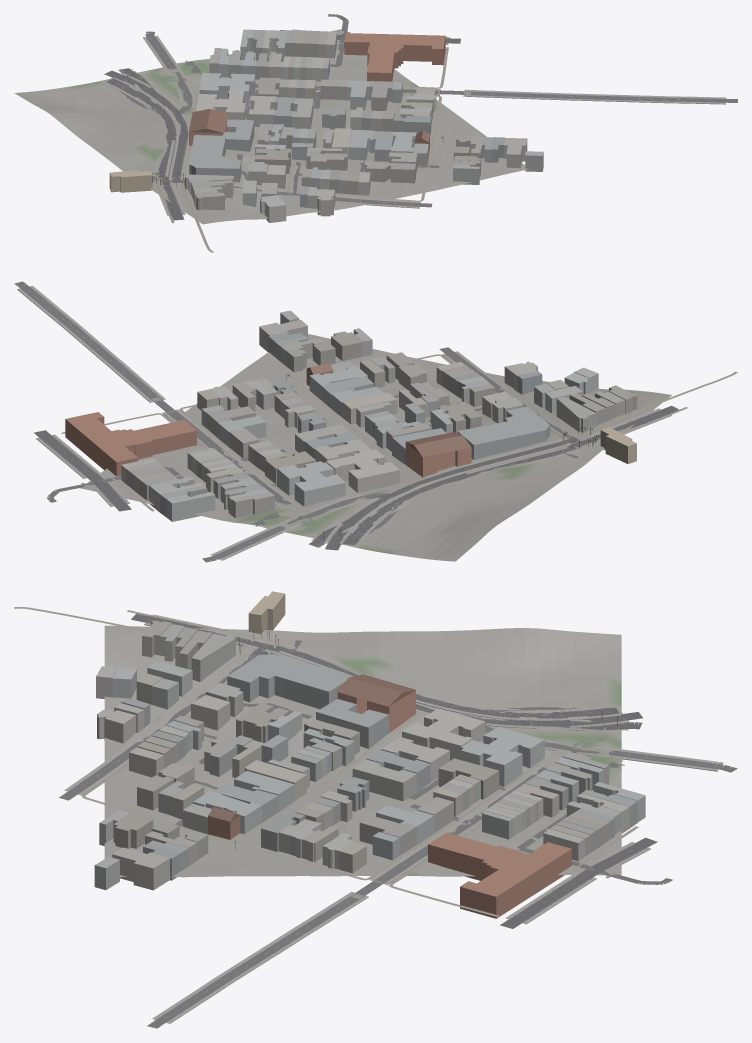
File: tile_-8_-3.glb
3 renders of one model, top to bottom at view 1: azimuth 30°, elevation 25°; view 2: azimuth 150°, elevation 25°; view 3: azimuth 270°, elevation 25°, orthographic. The views are drawn at different scales.
Visible parts, largest first — view 1: buildings, terrain, roads, sidewalks, paths; view 2: buildings, terrain, roads, sidewalks, paths; view 3: buildings, terrain, roads, sidewalks, paths.
Boxes of the visible parts, box(x1,y1,x2,y2) form: buildings: box(109, 29, 543, 222); terrain: box(14, 29, 528, 224); roads: box(104, 14, 737, 220); sidewalks: box(111, 29, 726, 215); paths: box(133, 31, 455, 252); buildings: box(65, 310, 637, 521); terrain: box(80, 334, 671, 561); roads: box(14, 281, 678, 562); sidewalks: box(17, 285, 671, 560); paths: box(61, 354, 737, 540); buildings: box(94, 591, 645, 918); terrain: box(104, 625, 621, 877); roads: box(59, 613, 737, 1028); sidewalks: box(64, 614, 723, 1024); paths: box(14, 607, 638, 916).
Size of the model in its own units: 458 by 28.29 by 359.
